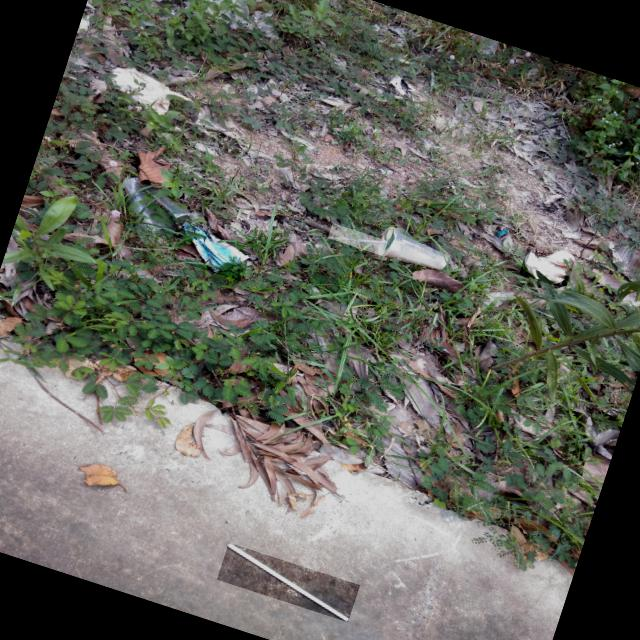Cup: (124, 178, 193, 235), (377, 228, 448, 271)
Other plastic: (497, 231, 508, 237)
Straw: (227, 543, 348, 622), (328, 237, 387, 244)
Unlabeled litter: (110, 68, 195, 116), (181, 222, 249, 274), (524, 250, 574, 284)
